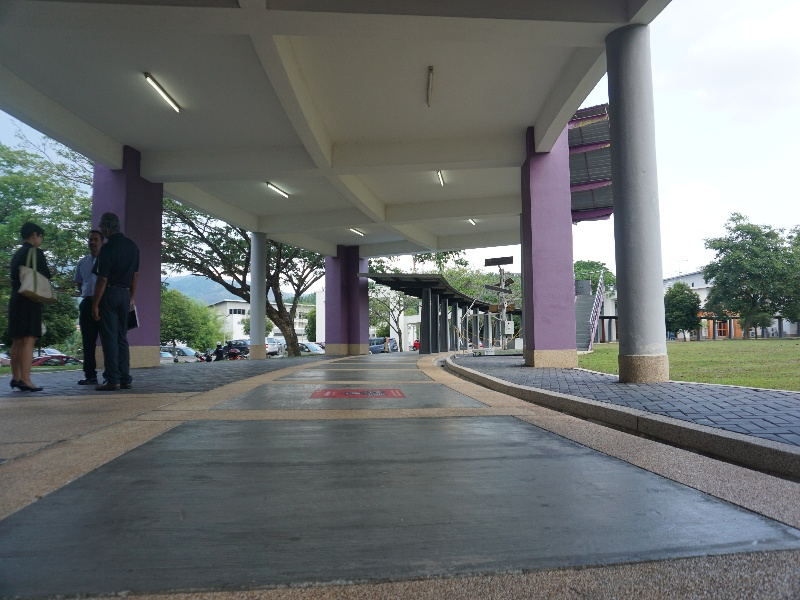Block D Pillar 3: (5, 10, 800, 527)
pillar: (511, 109, 578, 388)
